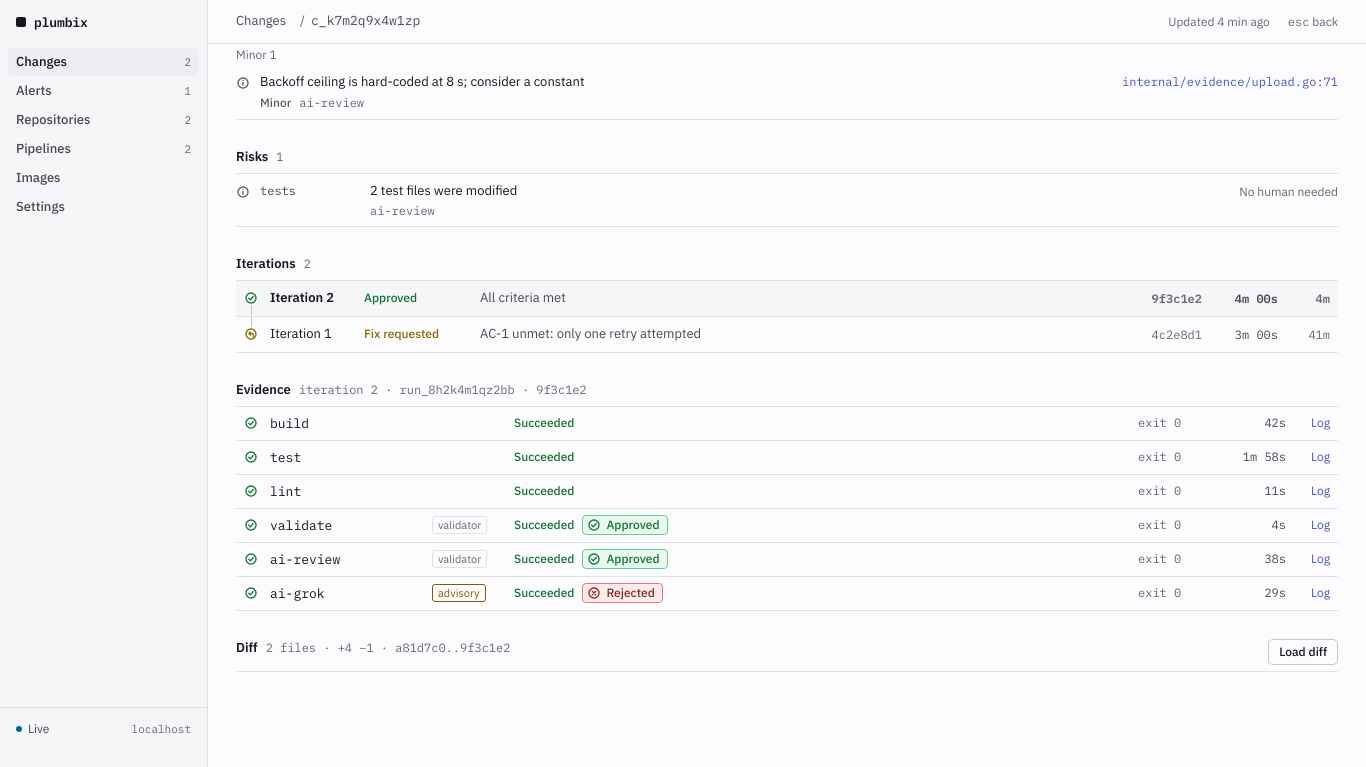
Diff on the change page › loads on demand and a file:line link opens it at the line
(page scrolled)
Expected: the text "2 files · +4 −1 · a81d7c0..9f3c1e2" is shown, 266,640 -> 510,655
Click the button "Load diff" at (1303, 652), box 1268,639 -> 1338,665
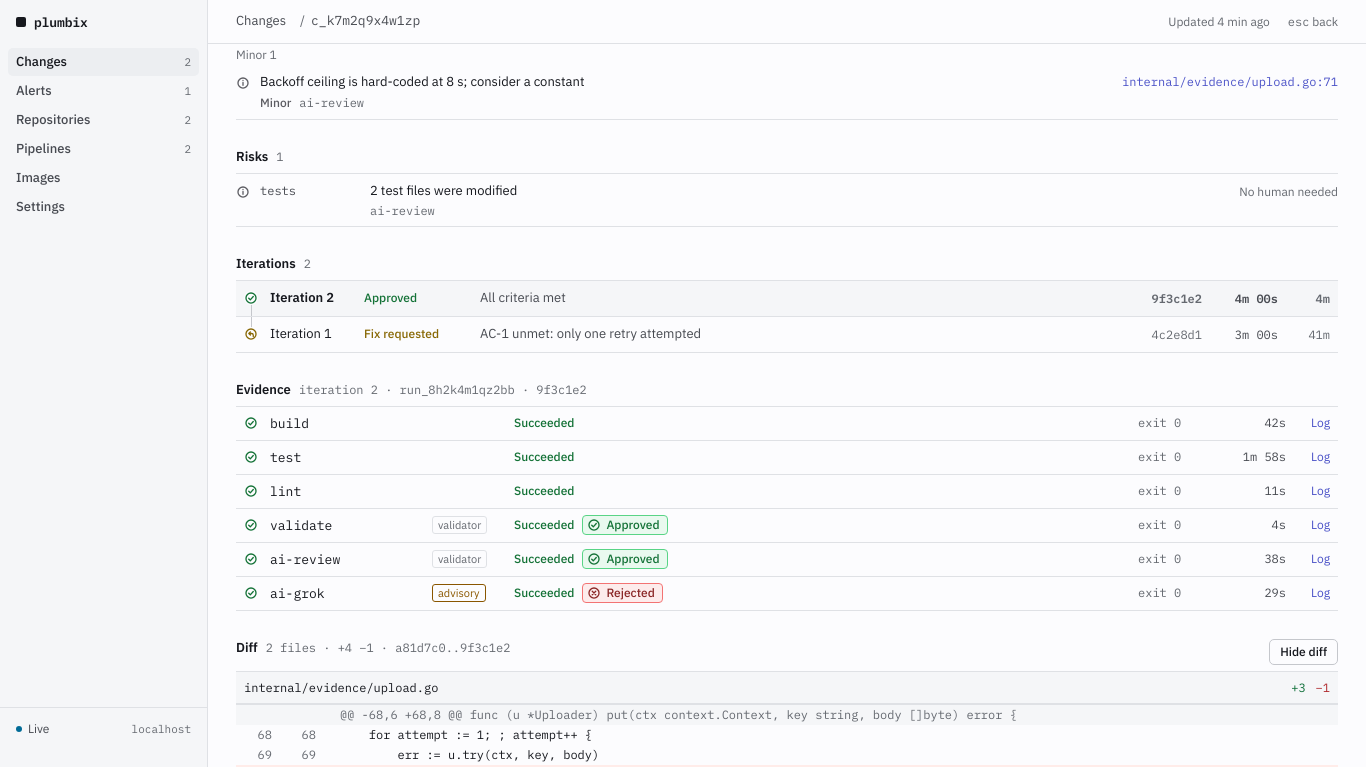
Expected: the text "func (u *Uploader) put" is shown, 470,707 -> 1017,722
Expected: the button "Hide diff" is shown
Click the button "Hide diff" at (1304, 652), box 1269,639 -> 1338,665
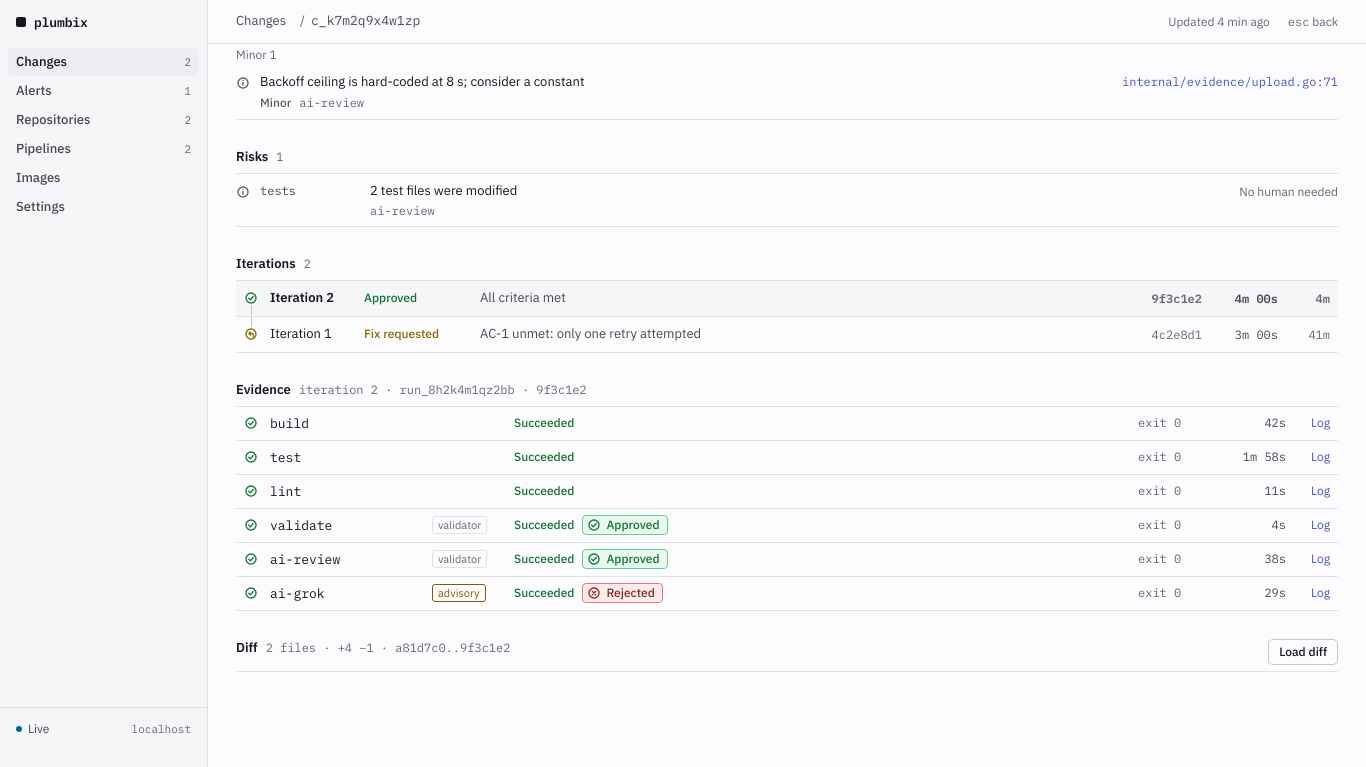
Expected: the text "func (u *Uploader) put" is gone
Click the button "internal/evidence/upload.go:71" at (1230, 82), box 1122,73 -> 1338,90
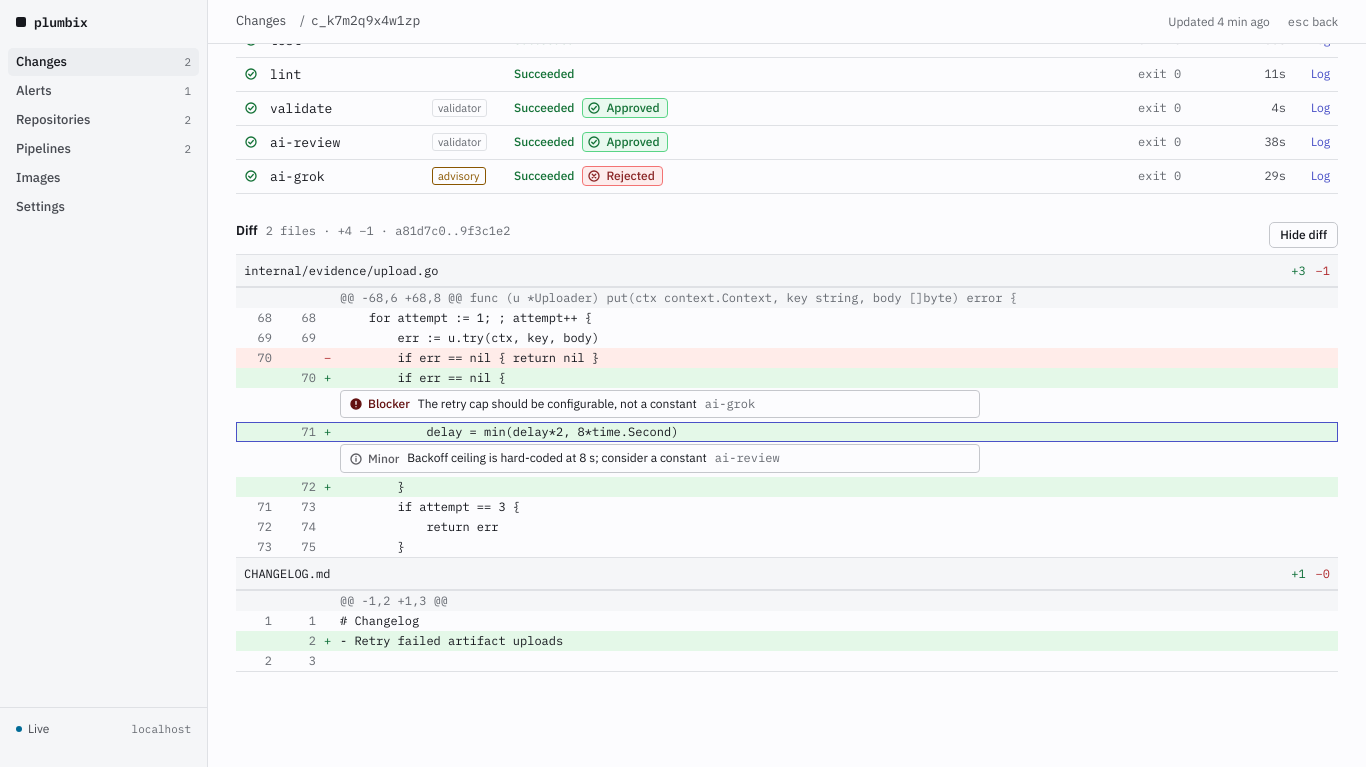
Expected: the element showing "71 + delay = min(delay*2, 8*time.Second)" is shown, 236,422 -> 1338,442
